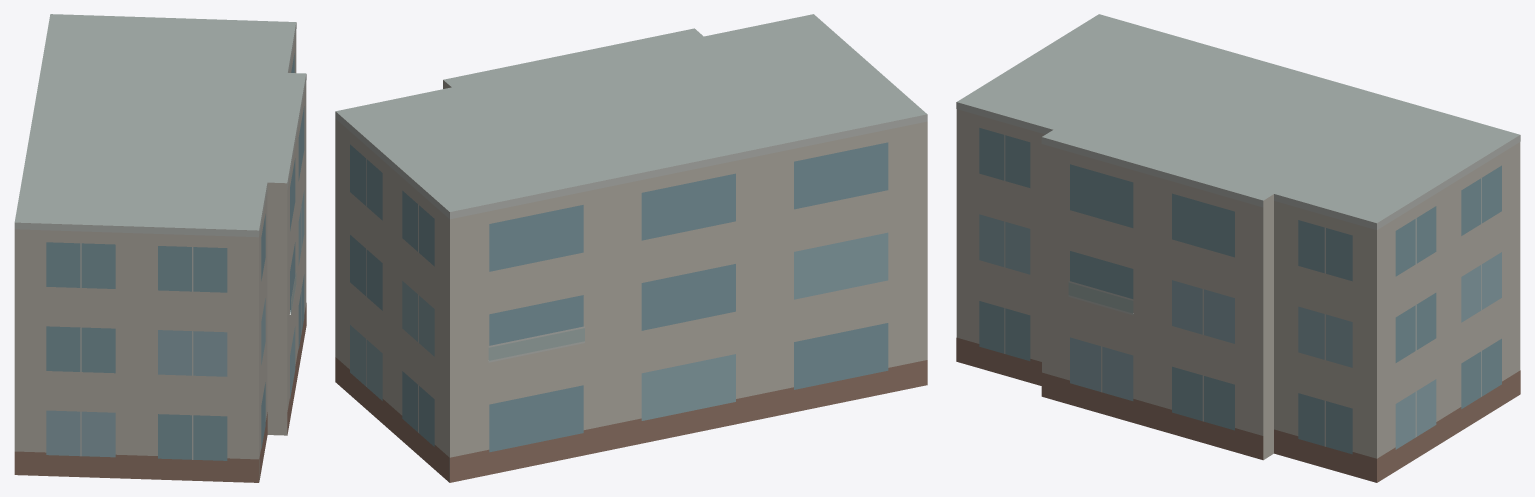
Rendered from survey-upis-32979432.glb.
3 renders of one model, left to right at view 1: azimuth 30°, elevation 25°; view 2: azimuth 150°, elevation 25°; view 3: azimuth 270°, elevation 25°, orthographic. The views are drawn at different scales.
Visible parts, largest first — view 1: survey-upis-32979432.tmp; view 2: survey-upis-32979432.tmp; view 3: survey-upis-32979432.tmp.
Boxes of the visible parts, x1,y1,x2,y2 form: survey-upis-32979432.tmp: [14, 14, 306, 482]; survey-upis-32979432.tmp: [335, 14, 927, 482]; survey-upis-32979432.tmp: [956, 14, 1520, 482].
Bounding box in the file's own units: 15.82 × 9.15 × 18.02.
